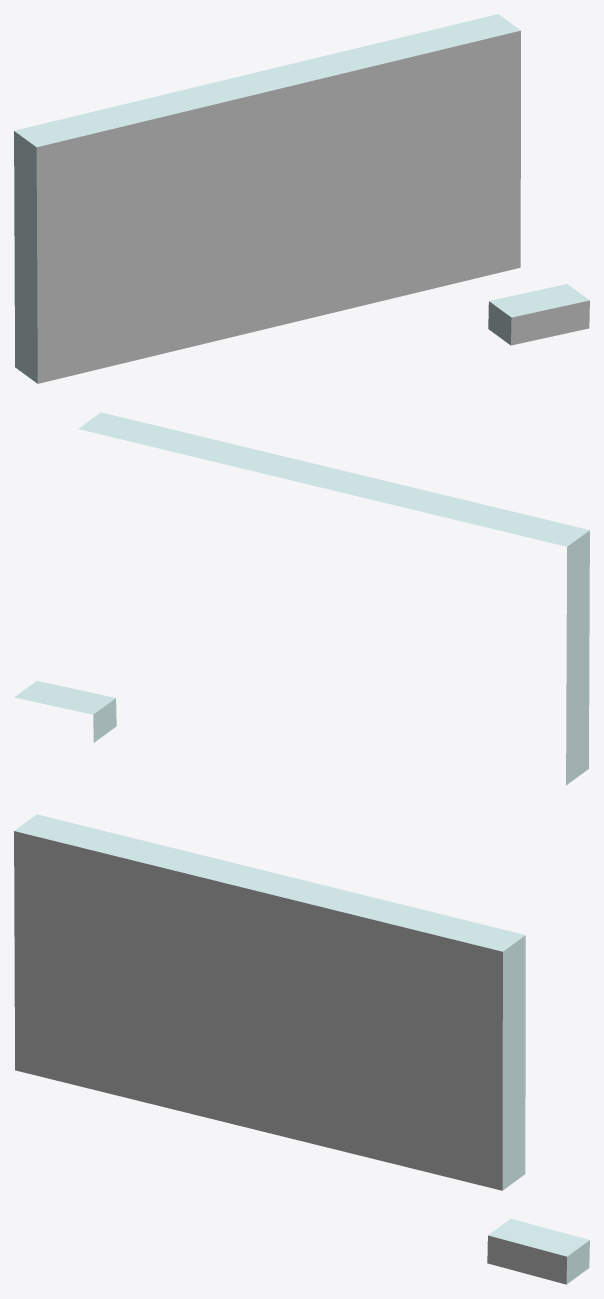
3 renders of one model, top to bottom at view 1: azimuth 30°, elevation 25°; view 2: azimuth 150°, elevation 25°; view 3: azimuth 330°, elevation 25°, orthographic.
Parts seen in each view (by area): view 1: 0_2_1_2_3_0_2_3; view 2: 0_2_1_2_3_0_2_3; view 3: 0_2_1_2_3_0_2_3.
Boxes of the visible parts, x1,y1,x2,y2 form: 0_2_1_2_3_0_2_3: (14, 14, 589, 383); 0_2_1_2_3_0_2_3: (14, 412, 589, 785); 0_2_1_2_3_0_2_3: (14, 814, 589, 1284).
Bounding box in the file's own units: 42.13 × 22.91 × 3.35.
